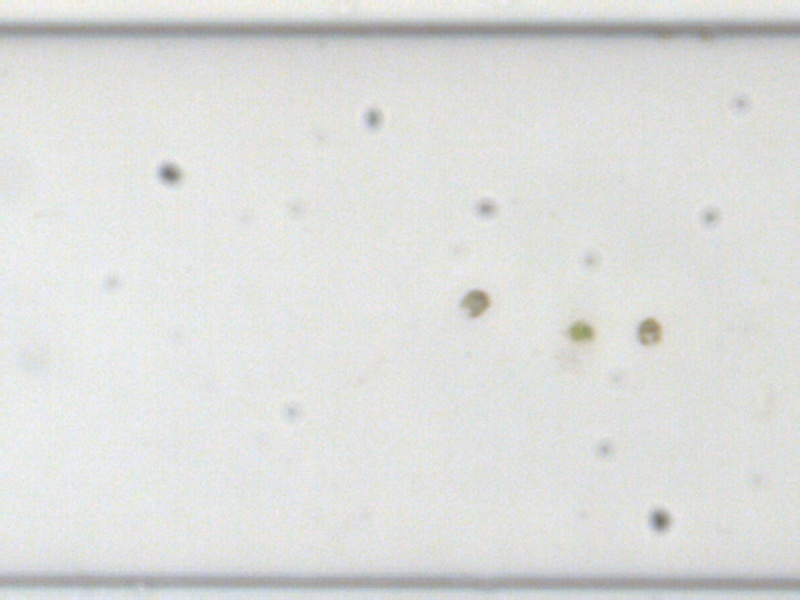Chlorella: (566, 320, 591, 343)
Dunaliella salina: (458, 286, 489, 319), (636, 316, 663, 347)
